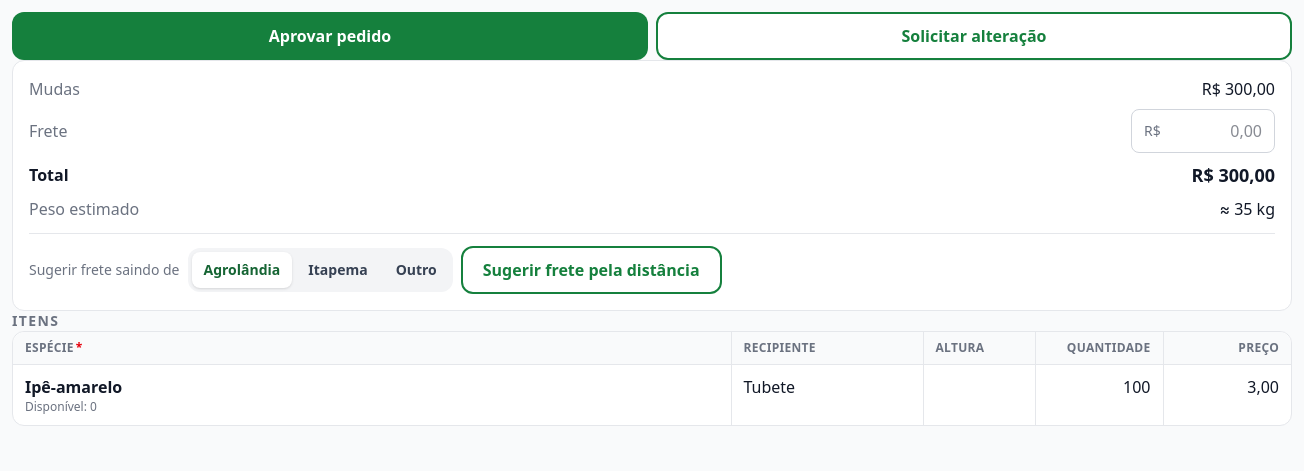
Test: ItensDaFicha: o fechamento do pedido (RF-66) › "Sugerir" pede a conta da origem escolhida e preenche o campo
The image size is (1304, 471).
Step 1. Click the radio button labelled "Itapema" → (338,270), box [308, 260, 368, 279]
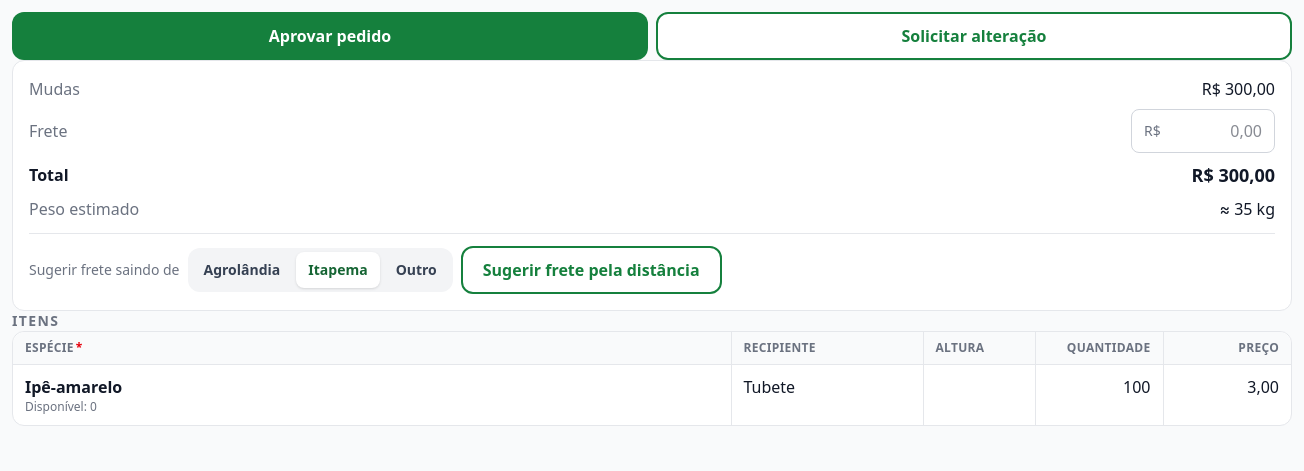
Step 2. Click the button "Sugerir frete pela distância" → (591,270), box [461, 246, 722, 294]
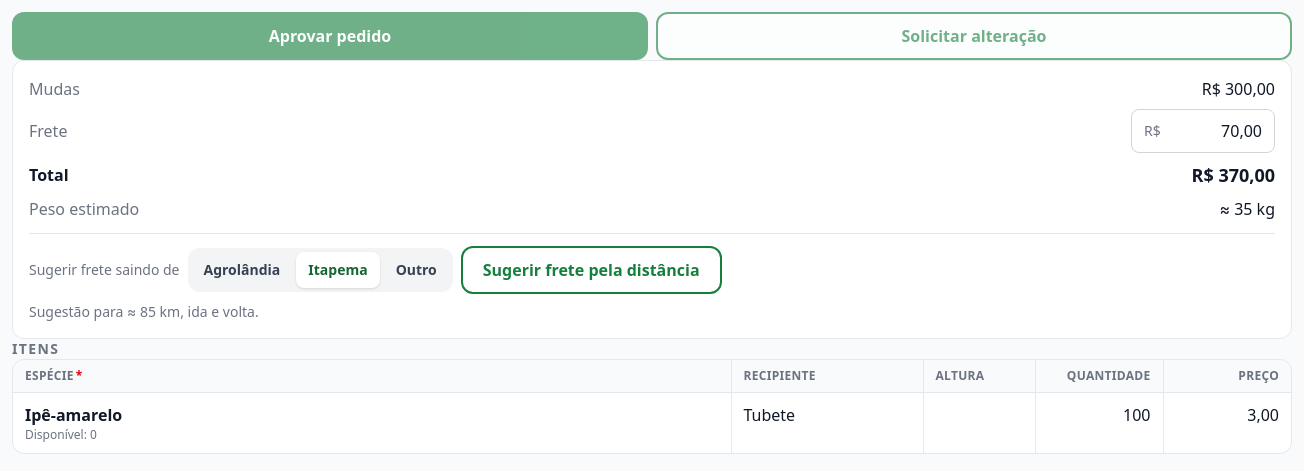
Result: the field named "Frete" holds "70,00" at [1169, 119, 1262, 143]
Result: the text "Sugestão para ≈ 85 km, ida e volta." is shown at [29, 302, 259, 321]
